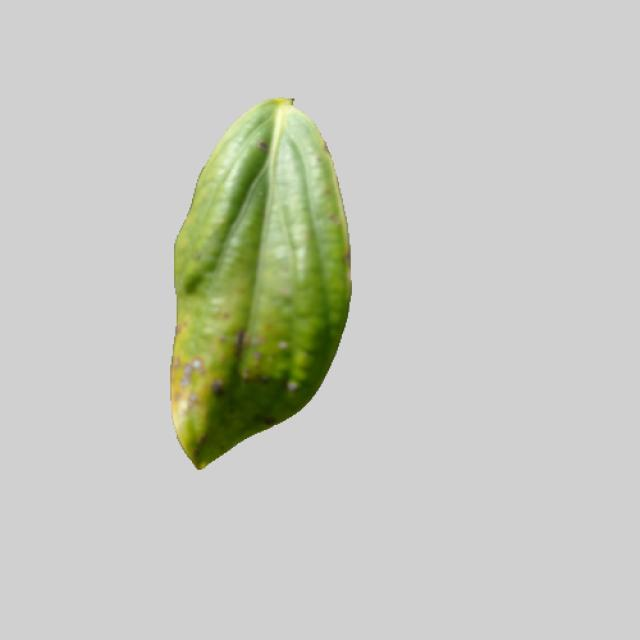yellow-mottle-virus: (164, 96, 353, 472)
